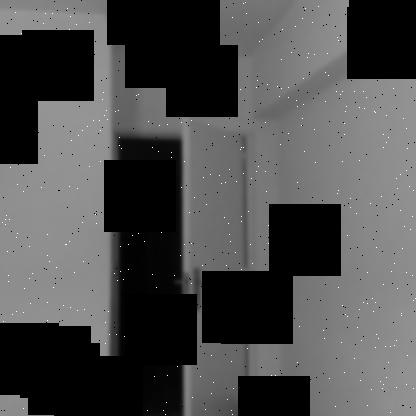Porte: (112, 114, 261, 416)
